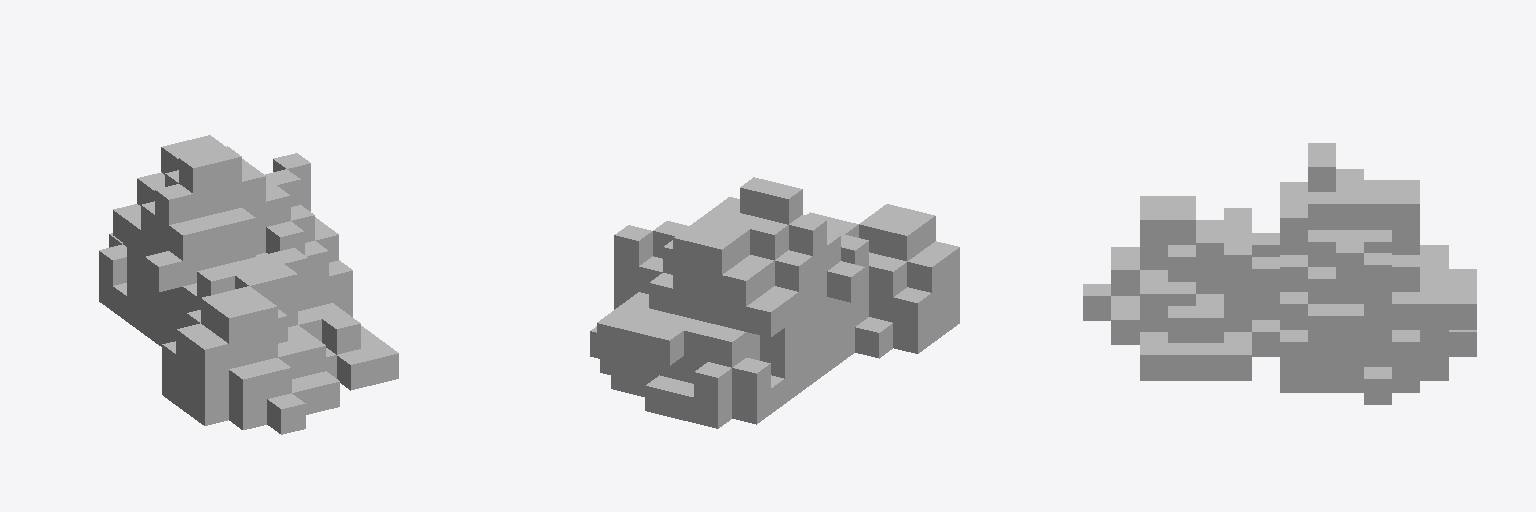
File: Rock2.obj
3 views of the same model, side by side, from view 1: azimuth 30°, elevation 25°; view 2: azimuth 150°, elevation 25°; view 3: azimuth 270°, elevation 25° (orthographic).
Parts seen in each view (by area): view 1: object 1; view 2: object 1; view 3: object 1.
Part boxes in pixels (left/top/right/bottom): object 1: left=99, top=135, right=398, bottom=434; object 1: left=590, top=177, right=959, bottom=428; object 1: left=1083, top=143, right=1476, bottom=404.
Bounding box in the file's own units: 1 × 0.7 × 1.4.